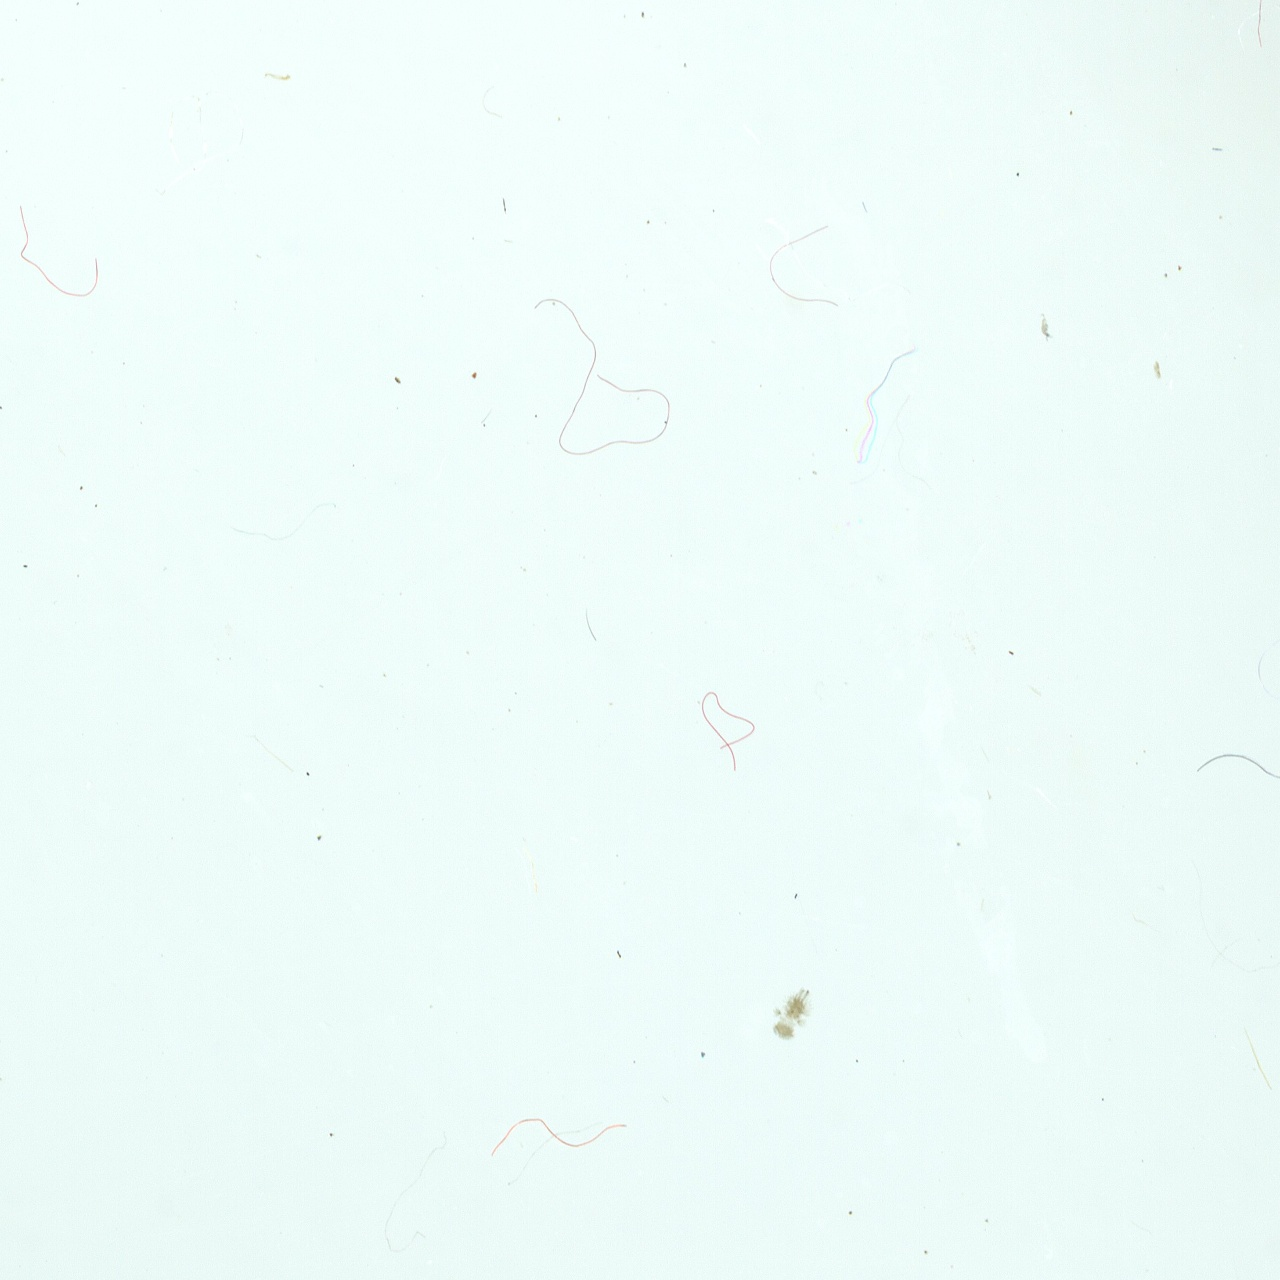arthropod: (767, 980, 816, 1037)
